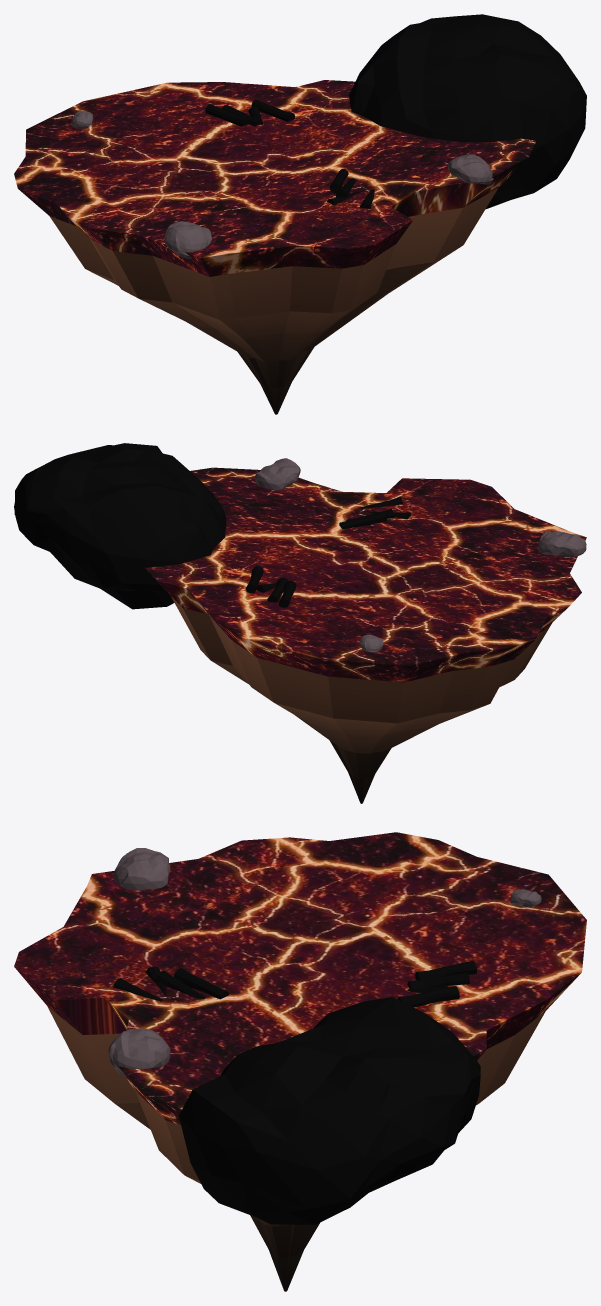
Rendered from table_fire.glb.
3 views of the same model, one above another, from view 1: azimuth 30°, elevation 25°; view 2: azimuth 150°, elevation 25°; view 3: azimuth 270°, elevation 25° (orthographic). The views are drawn at different scales.
Visible parts, largest first — view 1: Vert.001, Icosphere.016, Vert, Icosphere.002, Icosphere.001; view 2: Vert.001, Icosphere.016, Vert, Icosphere.001, Icosphere.002; view 3: Vert.001, Icosphere.016, Vert, Icosphere.001, Icosphere.002, Cylinder.001, Cylinder.007, Cylinder.002, Cylinder.003.
Boxes of the visible parts, x1=… form: Vert.001: x1=14, y1=80, x2=536, y2=276; Icosphere.016: x1=349, y1=14, x2=586, y2=208; Vert: x1=49, y1=188, x2=498, y2=414; Icosphere.002: x1=164, y1=221, x2=211, y2=258; Icosphere.001: x1=448, y1=154, x2=493, y2=184; Vert.001: x1=145, y1=467, x2=586, y2=682; Icosphere.016: x1=14, y1=443, x2=226, y2=609; Vert: x1=171, y1=596, x2=552, y2=803; Icosphere.001: x1=254, y1=458, x2=300, y2=490; Icosphere.002: x1=538, y1=531, x2=586, y2=556; Vert.001: x1=14, y1=832, x2=586, y2=1125; Icosphere.016: x1=179, y1=997, x2=480, y2=1224; Vert: x1=47, y1=1006, x2=545, y2=1291; Icosphere.001: x1=108, y1=1028, x2=170, y2=1076; Icosphere.002: x1=113, y1=848, x2=170, y2=890; Cylinder.001: x1=397, y1=986, x2=459, y2=1007; Cylinder.007: x1=174, y1=968, x2=228, y2=999; Cylinder.002: x1=415, y1=961, x2=476, y2=980; Cylinder.003: x1=407, y1=973, x2=469, y2=990.
Size of the model in its own units: 12.11 by 6.6 by 8.61.
14 materials, 2 textured.
